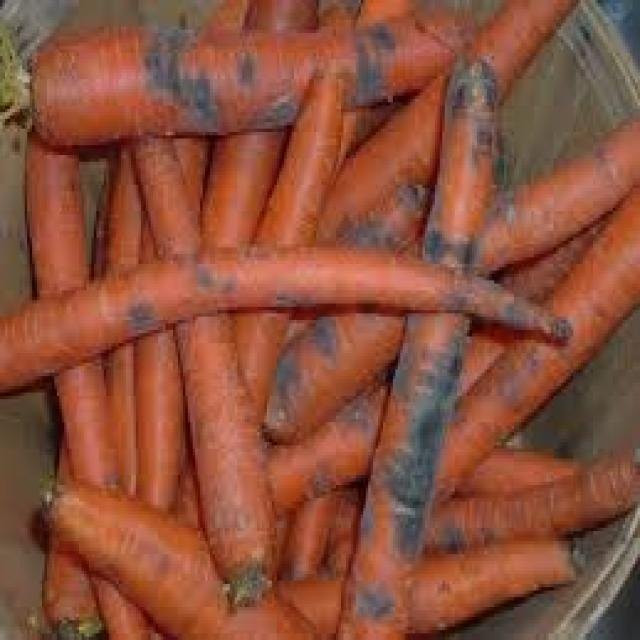Stale_Carrot: (0, 254, 604, 425), (334, 78, 507, 640), (14, 30, 468, 152)
